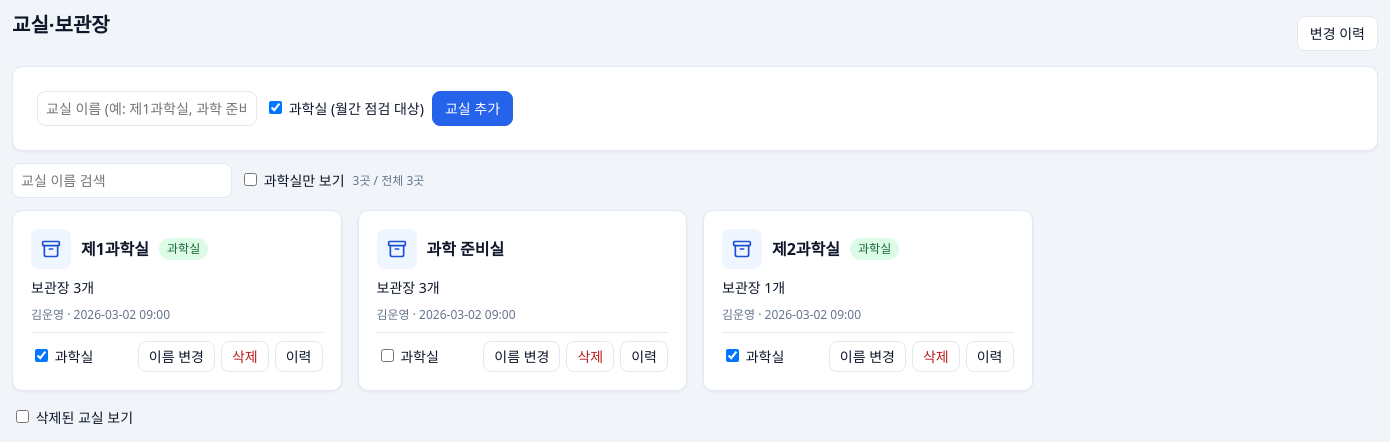
Test: RoomsPage › a double click on add creates one room
Expected: the link "제1과학실" is shown, [81,237,149,261]
Type "제3과학실" into the field named "새 교실 이름". click: (147, 108)
box: [37,91,257,126]
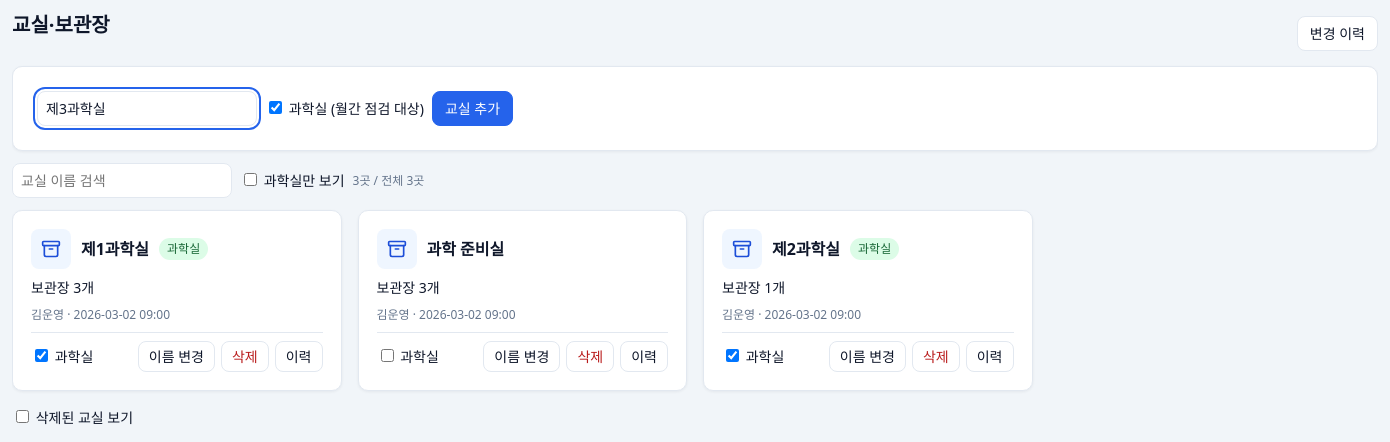
Click the button "교실 추가". click: click(472, 108)
box: [432,91,513,126]
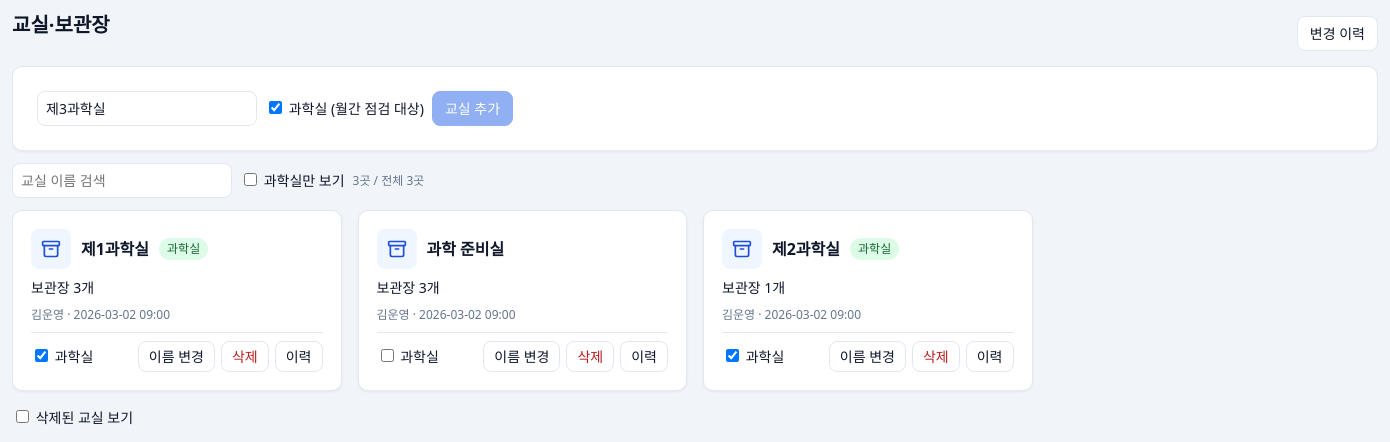
Click the button "교실 추가". click: click(472, 108)
box: [432,91,513,126]
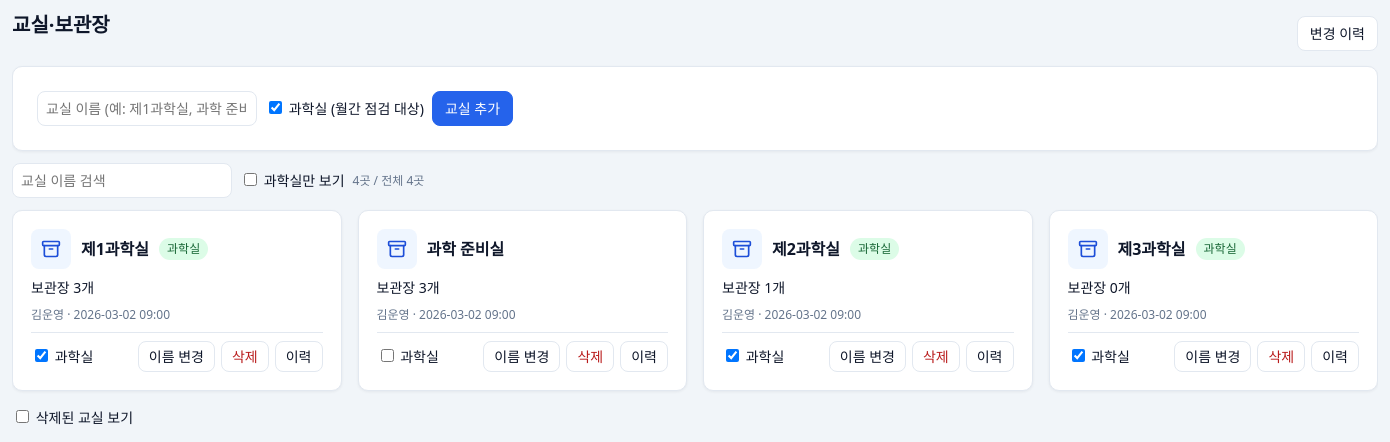
Expected: the link "제3과학실" is shown, [1118,237,1186,261]
